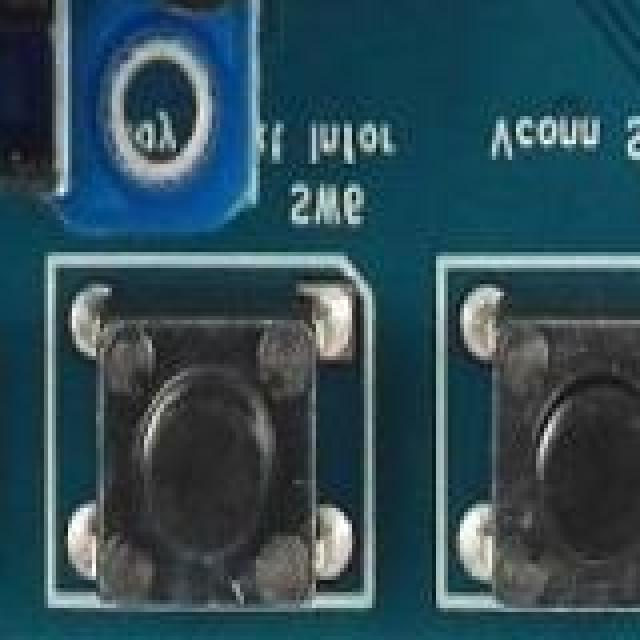connector: (152, 0, 252, 40)
display: (0, 0, 92, 8)
switch: (72, 312, 330, 614), (460, 312, 640, 604)
